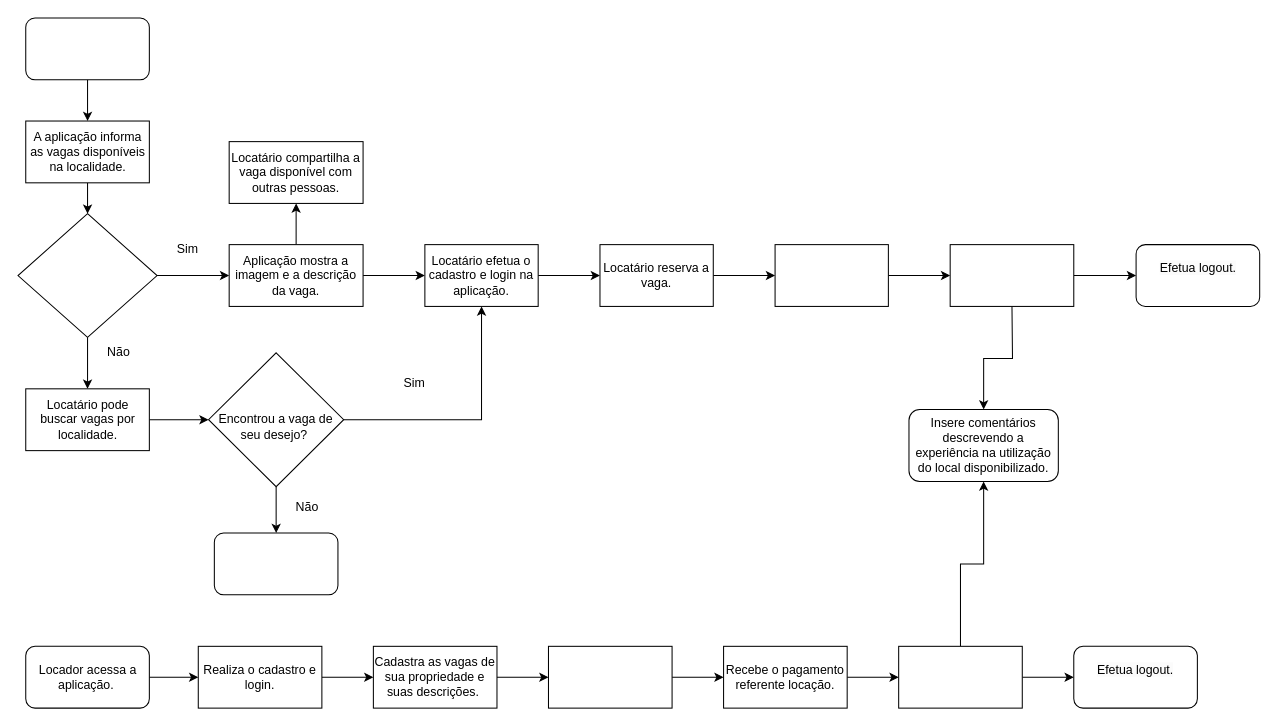
The diagram is 1278 pixels wide and 726 high, and some of its shapes have lost their labels. The shapes that lost their labels are listed below. From the top down, each one's centre as x and y in pixels, then its label:
(x=87, y=48): Locatário acessa a aplicação.
(x=87, y=275): A vaga apresentada atende o locatário ?
(x=831, y=275): Locatário realiza o pagamento.
(x=1011, y=275): Usufrui da vaga na data reservada.
(x=275, y=563): Encerramento da aplicação.
(x=609, y=676): Aprova as datas requisitadas para locação.
(x=960, y=676): Disponibiliza a vaga na data aprovada.
